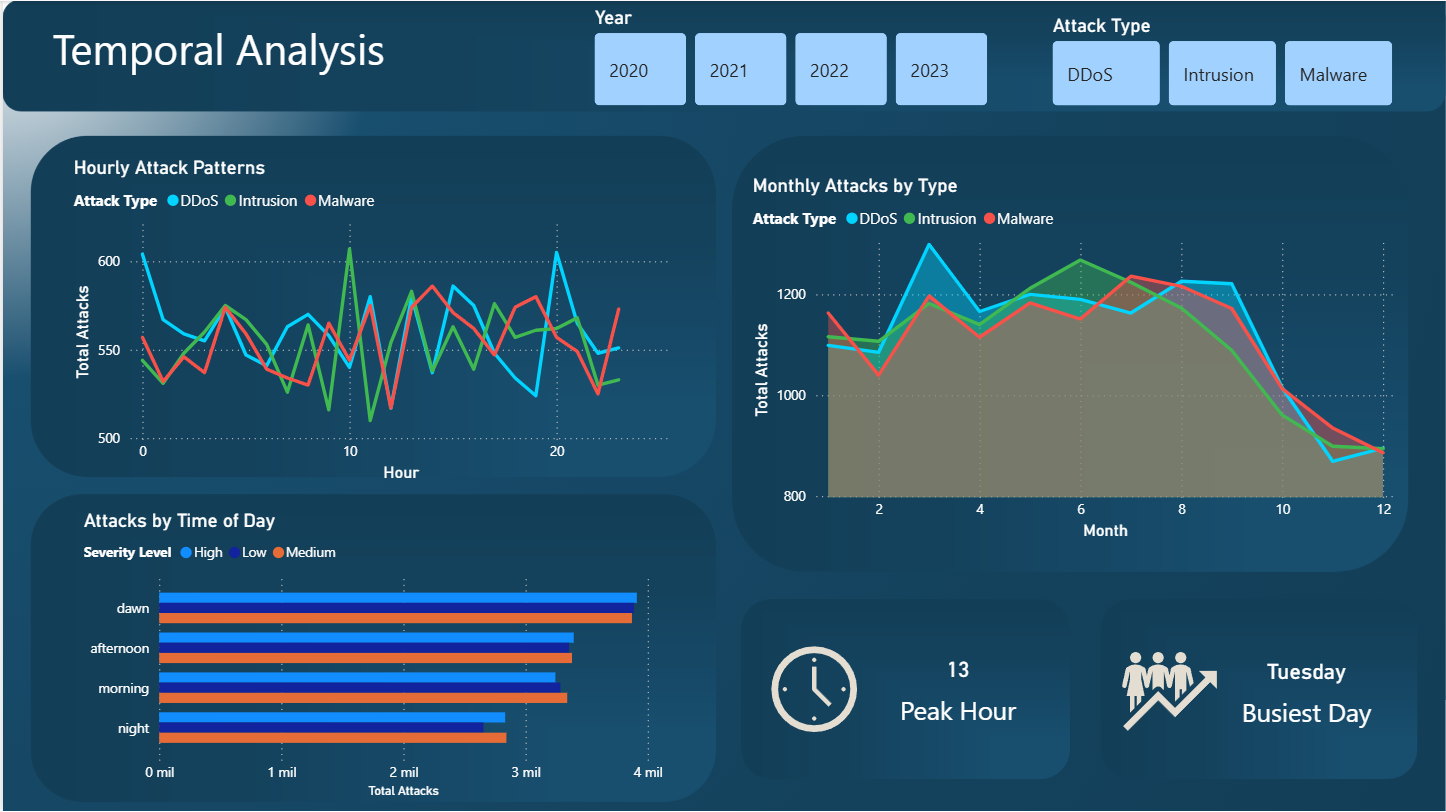

The page's visual inventory and layout, read from the dashboard file:
{"tool":"powerbi","page":{"name":"Temporal Analysis","canvas":[1280,720],"ordinal":1},"visuals":[{"type":"areaChart","title":"Monthly Attacks by Type","fields":{"Category":["cybersecurity_clean.Month"],"Series":["cybersecurity_clean.Attack Type"],"Y":["Medidas.Total Attacks"]},"box":[659.7,153.4,579,329],"z":0},{"type":"clusteredBarChart","title":"Attacks by Time of Day","fields":{"Category":["cybersecurity_clean.time_of_day"],"Series":["cybersecurity_clean.Severity Level"],"Y":["Medidas.Total Attacks"]},"box":[66.5,450.4,523.2,260.7],"z":1000},{"type":"advancedSlicerVisual","title":"Attack Type","fields":{"Values":["cybersecurity_clean.Attack Type"]},"box":[925.7,11.5,313,86],"z":2000},{"type":"advancedSlicerVisual","title":"Year","fields":{"Values":["cybersecurity_clean.Year"]},"box":[519.6,4.4,360,93.1],"z":3000},{"type":"card","fields":{"Values":["Medidas.Peak Hour"]},"box":[758.1,552.4,177.3,110.8],"z":4000},{"type":"card","fields":{"Values":["Medidas.Busiest Day"]},"box":[1050.7,552.4,210.1,114.4],"z":5000},{"type":"lineChart","title":"Hourly Attack Patterns","fields":{"Category":["cybersecurity_clean.Hour"],"Series":["cybersecurity_clean.Attack Type"],"Y":["Medidas.Total Attacks"]},"box":[57.6,137.4,540,293.5],"z":6000},{"type":"textbox","box":[39.3,11.1,414.2,79.6],"z":6001}]}

Visuals, with their boxes in screenshot pixels (x1, y1, x2, y2), scaled from the page's 1280x720 canvas onto the 1446x812 screenshot:
"Monthly Attacks by Type" areaChart: 745:173:1399:544
"Attacks by Time of Day" clusteredBarChart: 75:508:666:802
"Attack Type" advancedSlicerVisual: 1046:13:1399:110
"Year" advancedSlicerVisual: 587:5:994:110
card - Medidas.Peak Hour: 856:623:1057:748
card - Medidas.Busiest Day: 1187:623:1424:752
"Hourly Attack Patterns" lineChart: 65:155:675:486
textbox: 44:13:512:102
